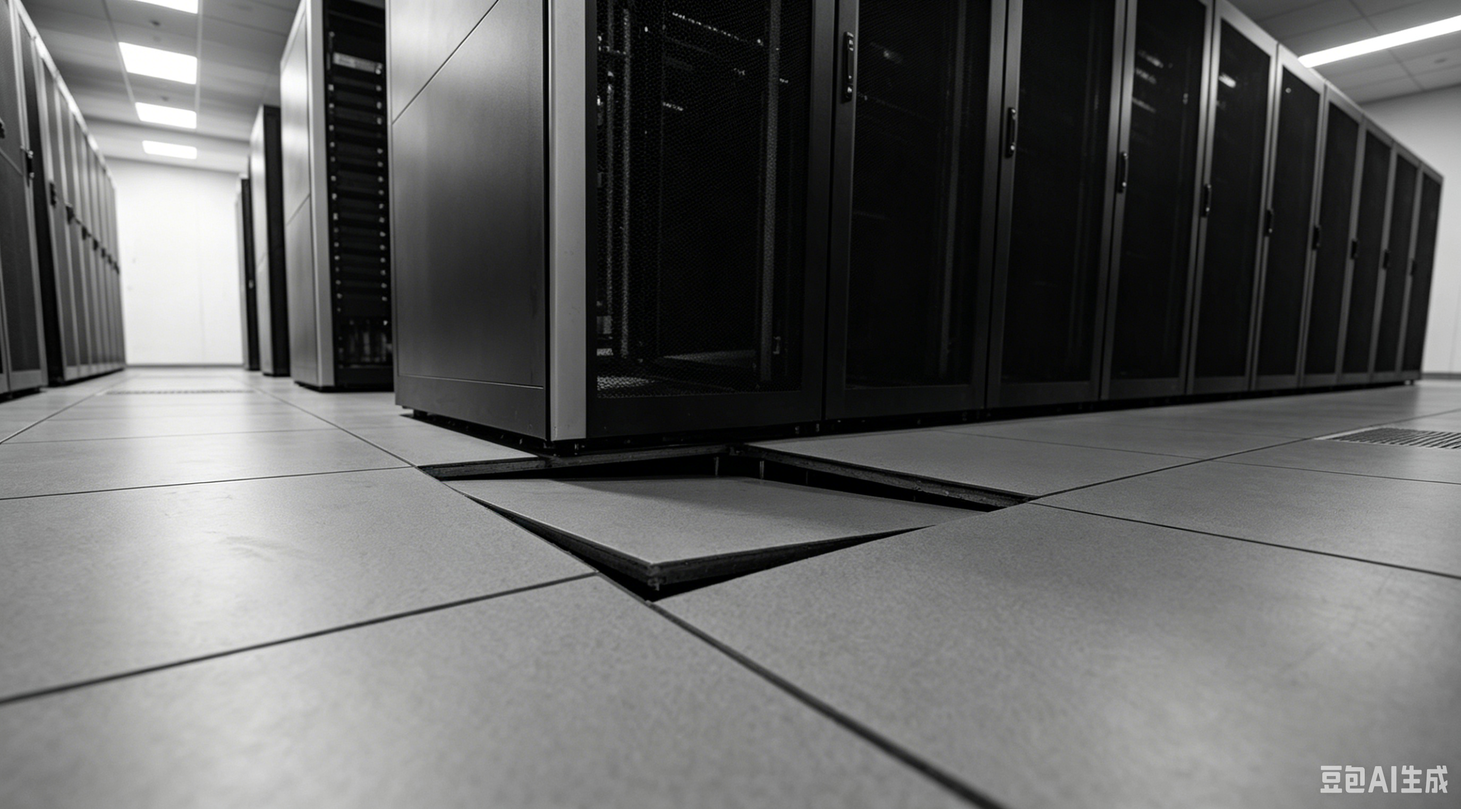floor_defect: (415, 432, 1043, 614)
